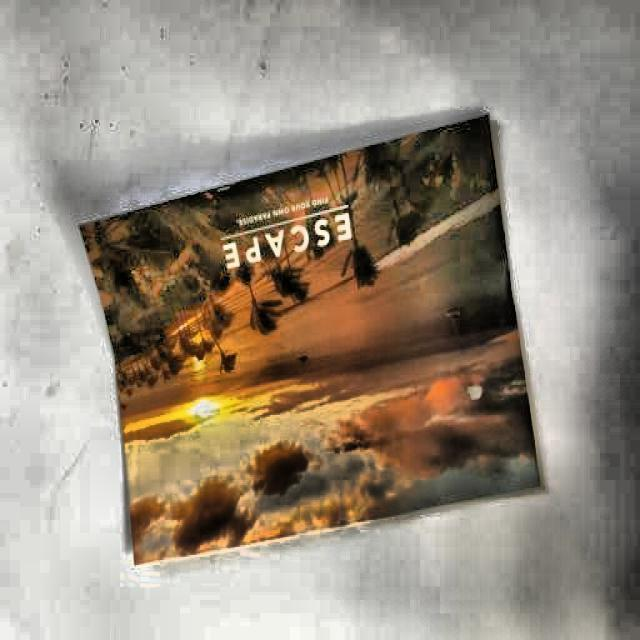paper: (77, 118, 545, 546)
